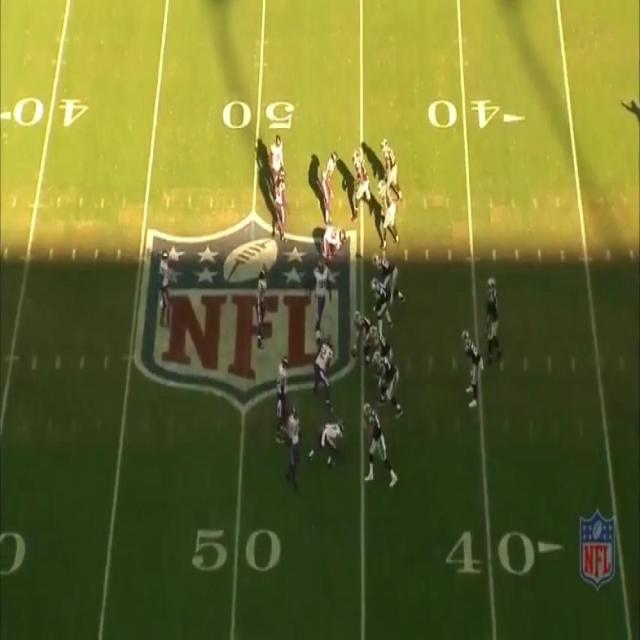center: (351, 311, 372, 357)
db: (158, 250, 174, 316), (288, 407, 300, 483), (272, 135, 283, 165)
lb: (275, 354, 287, 429), (272, 170, 286, 233), (322, 149, 336, 208), (256, 269, 267, 340)
qb: (486, 277, 502, 371)
